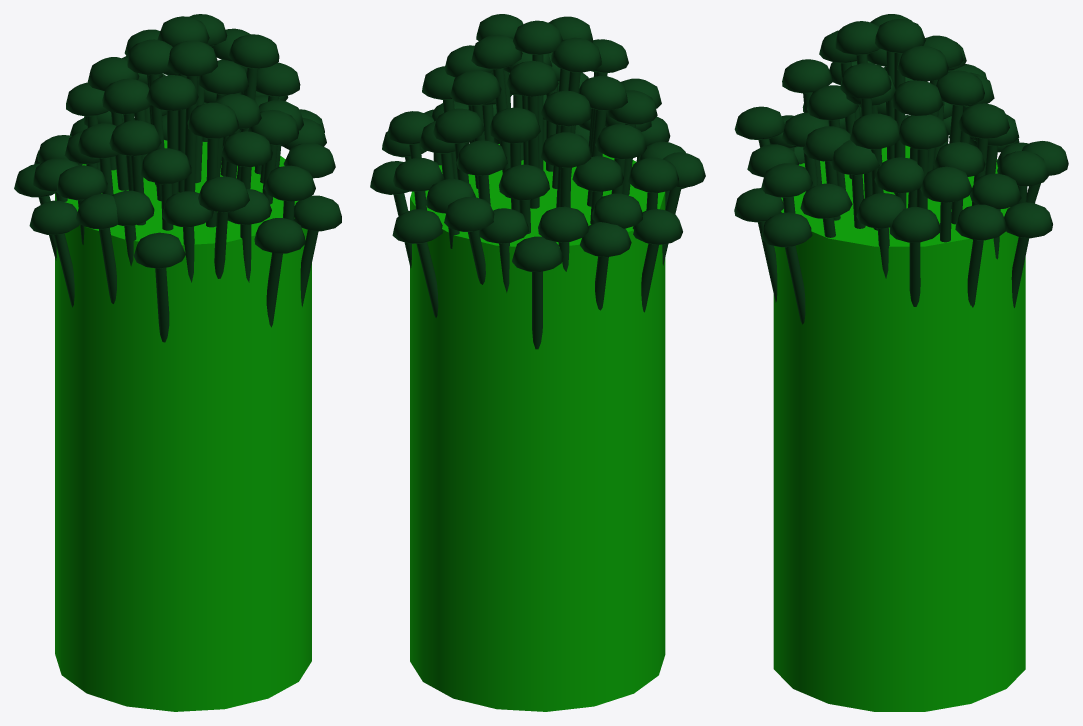
Rendered from Mushroom_Paenge_Merged.fbx.
3 views of the same model, side by side, from view 1: azimuth 30°, elevation 25°; view 2: azimuth 150°, elevation 25°; view 3: azimuth 270°, elevation 25° (orthographic).
Visible parts, largest first — view 1: Mushroom_Paenge; view 2: Mushroom_Paenge; view 3: Mushroom_Paenge.
Boxes of the visible parts, box(x1,y1,x2,y2) form: Mushroom_Paenge: box(14, 14, 341, 711); Mushroom_Paenge: box(370, 14, 705, 711); Mushroom_Paenge: box(734, 14, 1068, 711).
Size of the model in its own units: 17.73 by 17.61 by 36.96.
